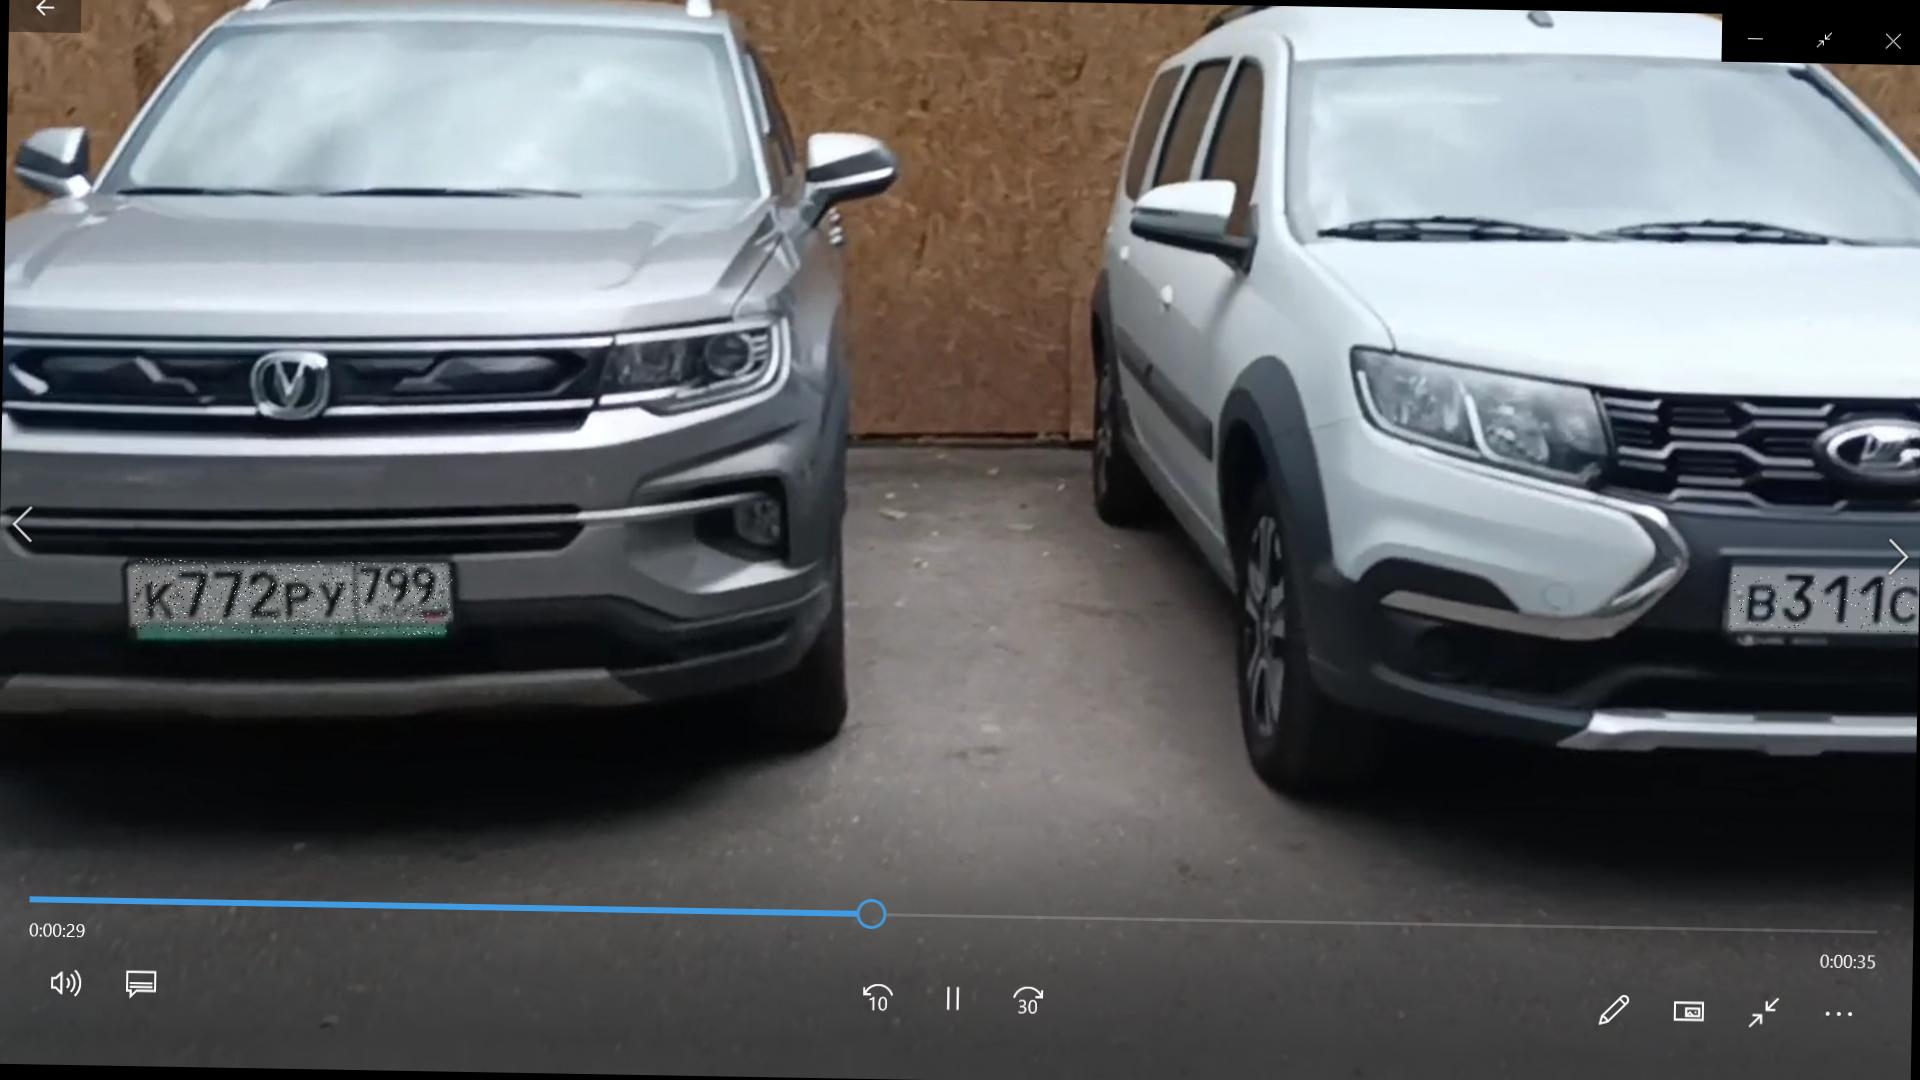plate: (134, 560, 455, 638), (1731, 576, 1919, 633)
